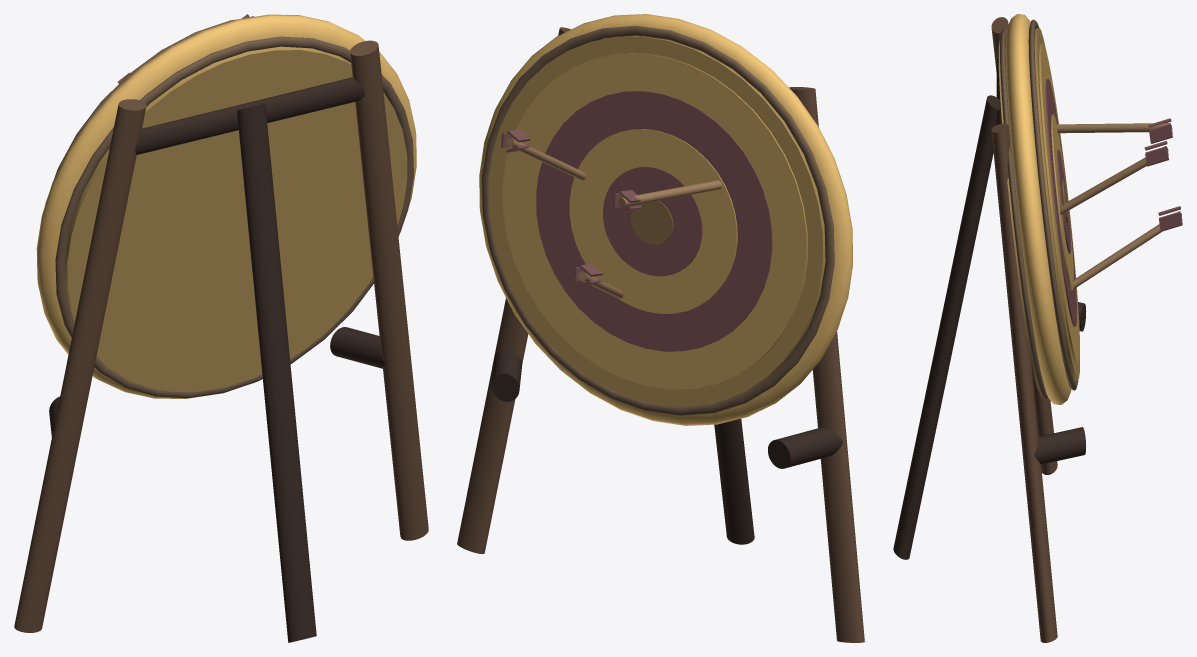
File: detail_archery_target.glb
3 views of the same model, side by side, from view 1: azimuth 30°, elevation 25°; view 2: azimuth 150°, elevation 25°; view 3: azimuth 270°, elevation 25° (orthographic). The views are drawn at different scales.
Visible parts, largest first — view 1: wood, straw; view 2: wood, straw; view 3: wood, straw.
Part boxes in pixels (bbox=[...]): wood: bbox=[14, 14, 428, 642]; straw: bbox=[36, 14, 416, 398]; wood: bbox=[457, 27, 864, 642]; straw: bbox=[479, 14, 852, 425]; wood: bbox=[893, 17, 1182, 642]; straw: bbox=[1000, 14, 1078, 404].
Size of the model in its own units: 1.2 by 1.6 by 0.8.
